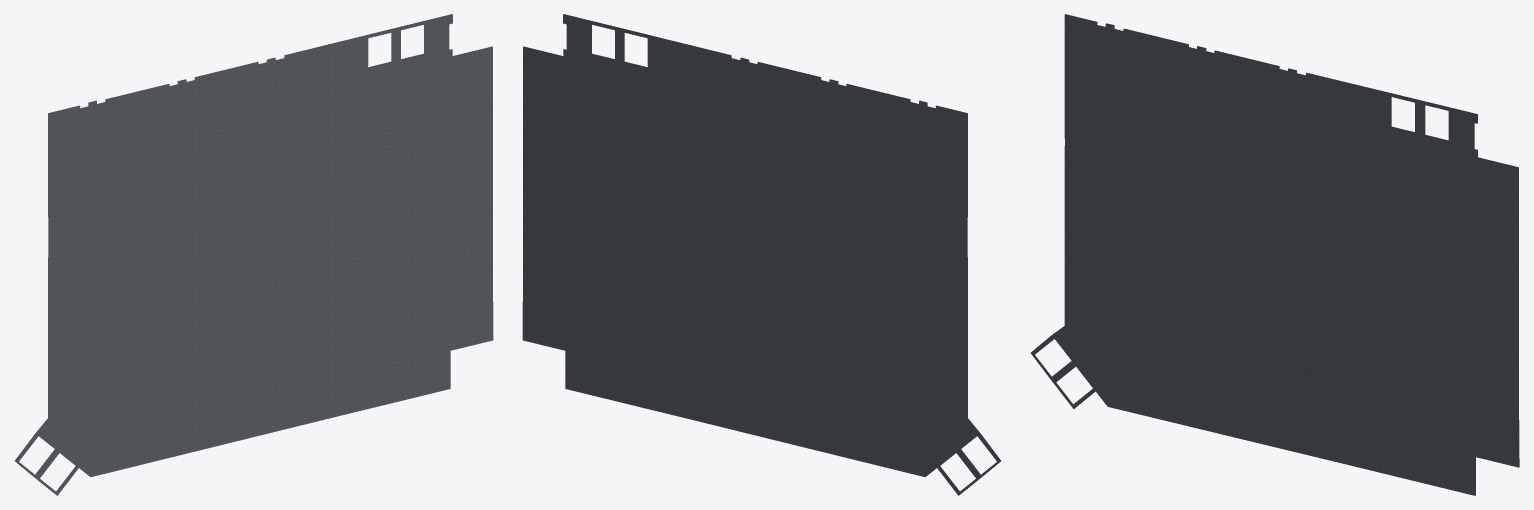
File: floor_1.obj
The picture shows the model from 3 angles, left to right: view 1: azimuth 30°, elevation 25°; view 2: azimuth 150°, elevation 25°; view 3: azimuth 330°, elevation 25°; orthographic projection. The views are drawn at different scales.
Parts seen in each view (by area): view 1: floor_1; view 2: floor_1; view 3: floor_1.
Part boxes in pixels (x1,y1,x2,y2): floor_1: (15, 14, 493, 495); floor_1: (522, 14, 1000, 495); floor_1: (1031, 14, 1519, 495).
Size of the model in its own units: 52.83 by 40.67 by 0.1.
